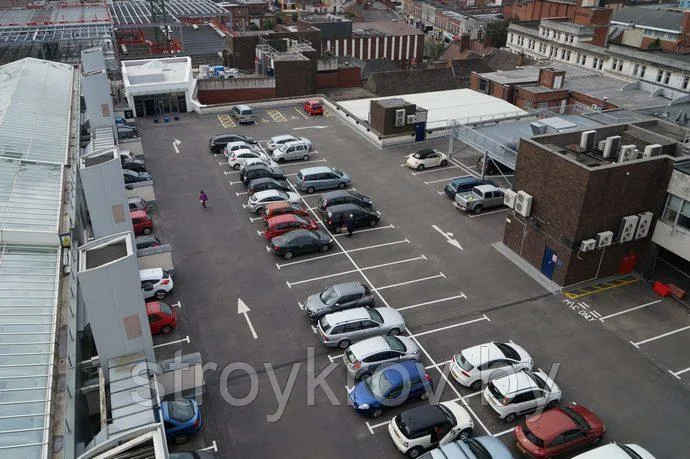Car: (514, 403, 605, 459), (388, 401, 475, 457), (348, 360, 431, 417), (450, 341, 534, 390), (483, 371, 562, 422), (316, 307, 406, 349), (343, 334, 420, 379), (303, 281, 375, 322), (418, 436, 515, 459), (155, 399, 203, 443), (269, 230, 334, 260), (295, 165, 352, 194), (323, 204, 380, 232), (570, 441, 658, 459), (453, 185, 506, 214), (263, 214, 319, 241), (247, 189, 301, 214), (318, 190, 374, 213), (444, 176, 498, 199), (139, 267, 174, 299), (145, 301, 177, 335), (208, 133, 258, 154), (271, 139, 312, 163), (405, 149, 449, 171), (240, 165, 286, 186), (261, 201, 309, 220), (227, 148, 266, 169), (266, 134, 312, 151), (247, 178, 289, 194), (477, 156, 513, 174), (130, 209, 154, 235), (238, 158, 281, 172), (223, 141, 260, 157), (231, 104, 256, 125), (168, 450, 220, 459), (127, 195, 150, 214), (136, 236, 163, 251), (123, 169, 151, 183), (303, 99, 324, 116), (122, 158, 146, 172), (117, 127, 138, 139), (119, 150, 135, 160), (115, 117, 127, 123)
